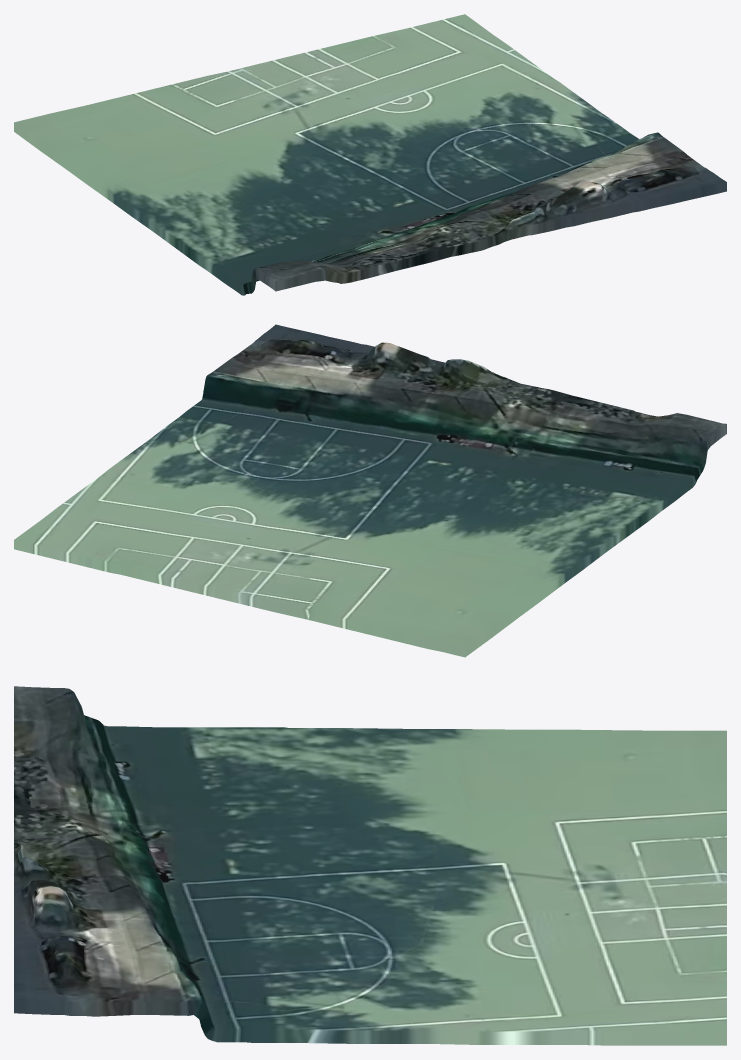
The model's file is z20-167738-405194-h0-yup-uvflip-v3-world.glb.
3 views of the same model, one above another, from view 1: azimuth 30°, elevation 25°; view 2: azimuth 150°, elevation 25°; view 3: azimuth 270°, elevation 25° (orthographic). The views are drawn at different scales.
Size of the model in its own units: 30.16 by 3.4 by 30.32.
1 material, 1 textured.
